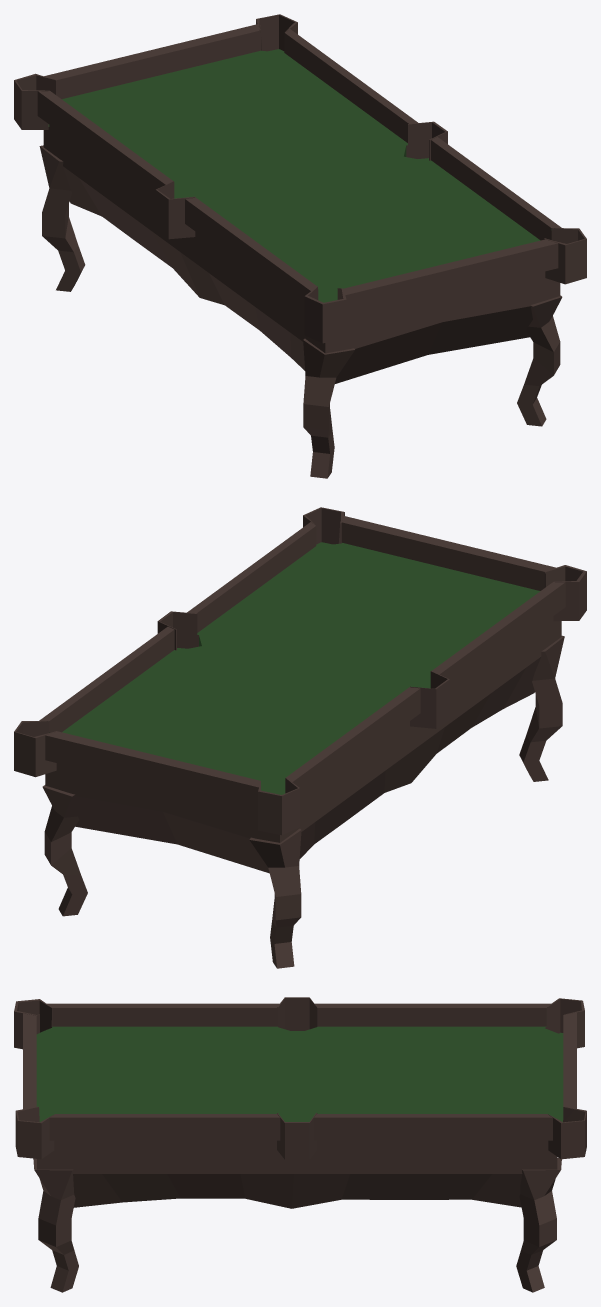
File: Pool_Table.fbx
3 views of the same model, one above another, from view 1: azimuth 30°, elevation 25°; view 2: azimuth 150°, elevation 25°; view 3: azimuth 270°, elevation 25° (orthographic). The views are drawn at different scales.
Parts seen in each view (by area): view 1: Cube, funnelbase, Cube.004, Cube.003, Cube.001, Cylinder.004, Cylinder.006, Cylinder.005, Cylinder.008, Cylinder.003, Cylinder.002; view 2: Cube, funnelbase, Cube.003, Cube.004, Cube.002, Cylinder.002, Cylinder.008, Cylinder.005, Cylinder.004, Cylinder.003, Cylinder.006; view 3: Cube, funnelbase, Cube.002, Cube.001, Cylinder.006, Cylinder.002, Cylinder.003, Cylinder.005, Cylinder.004, Cylinder.008.
Boxes of the visible parts, x1=… form: Cube: x1=37, y1=24, x2=561, y2=319; funnelbase: x1=43, y1=125, x2=560, y2=383; Cube.004: x1=303, y1=338, x2=354, y2=478; Cube.003: x1=39, y1=145, x2=85, y2=291; Cube.001: x1=517, y1=295, x2=562, y2=426; Cylinder.004: x1=304, y1=286, x2=346, y2=343; Cylinder.006: x1=544, y1=228, x2=586, y2=284; Cylinder.005: x1=155, y1=181, x2=195, y2=239; Cylinder.008: x1=14, y1=73, x2=54, y2=129; Cylinder.003: x1=408, y1=121, x2=447, y2=160; Cylinder.002: x1=256, y1=14, x2=297, y2=52; Cube: x1=39, y1=516, x2=565, y2=811; funnelbase: x1=45, y1=616, x2=561, y2=873; Cube.003: x1=249, y1=828, x2=301, y2=968; Cube.004: x1=519, y1=635, x2=564, y2=781; Cube.002: x1=42, y1=785, x2=87, y2=916; Cylinder.002: x1=14, y1=721, x2=56, y2=777; Cylinder.008: x1=258, y1=778, x2=299, y2=835; Cylinder.005: x1=410, y1=671, x2=449, y2=728; Cylinder.004: x1=544, y1=565, x2=586, y2=621; Cylinder.003: x1=157, y1=611, x2=197, y2=650; Cylinder.006: x1=303, y1=507, x2=344, y2=545; Cube: x1=23, y1=1003, x2=576, y2=1140; funnelbase: x1=37, y1=1140, x2=557, y2=1208; Cube.002: x1=516, y1=1157, x2=561, y2=1292; Cube.001: x1=33, y1=1158, x2=78, y2=1292; Cylinder.006: x1=15, y1=1106, x2=54, y2=1159; Cylinder.002: x1=548, y1=1106, x2=586, y2=1159; Cylinder.003: x1=277, y1=1113, x2=317, y2=1159; Cylinder.005: x1=277, y1=997, x2=317, y2=1032; Cylinder.004: x1=14, y1=999, x2=52, y2=1049; Cylinder.008: x1=547, y1=998, x2=584, y2=1048.
Bounding box in the file's own units: 512 × 341 × 986.
